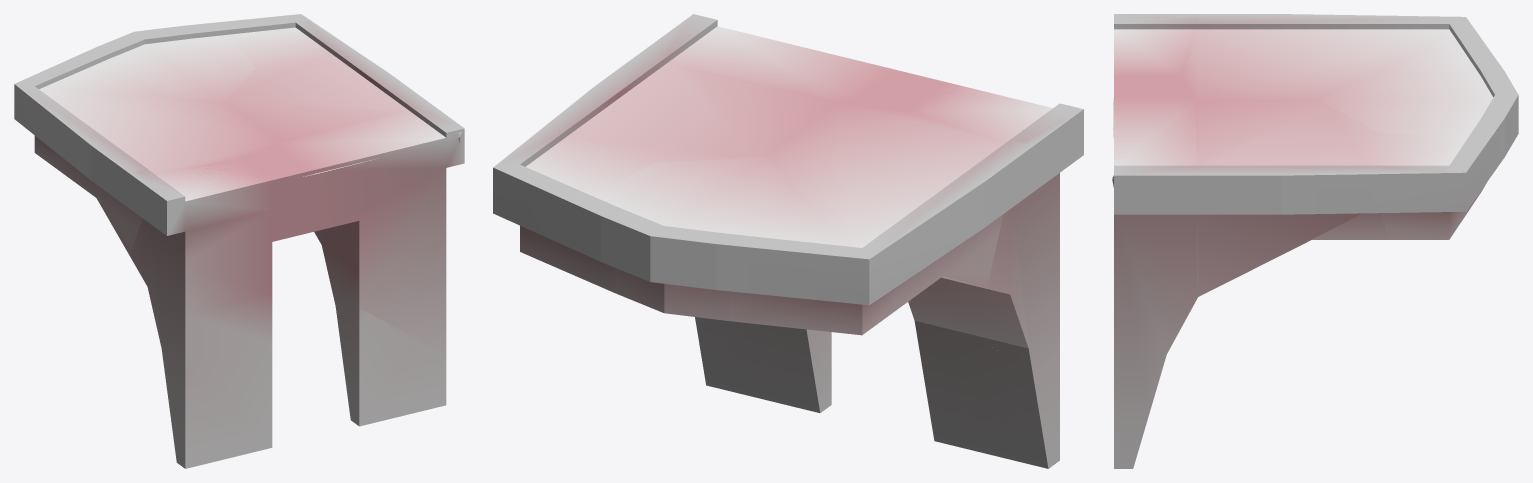
The model's file is BreakBlock.fbx.
3 views of the same model, side by side, from view 1: azimuth 30°, elevation 25°; view 2: azimuth 150°, elevation 25°; view 3: azimuth 270°, elevation 25° (orthographic). The views are drawn at different scales.
Visible parts, largest first — view 1: BreakBlockWhole, BreakBlockWhole_cell.001, BreakBlockWhole_cell.002, BreakBlockWhole_cell.007, BreakBlockWhole_cell.005, BreakBlockWhole_cell.006, BreakBlockWhole_cell.004, BreakBlockWhole_cell, BreakBlockWhole_cell.003; view 2: BreakBlockWhole, BreakBlockWhole_cell.002, BreakBlockWhole_cell.007, BreakBlockWhole_cell.005, BreakBlockWhole_cell.008, BreakBlockWhole_cell.006, BreakBlockWhole_cell.001, BreakBlockWhole_cell, BreakBlockWhole_cell.004; view 3: BreakBlockWhole_cell.007, BreakBlockWhole, BreakBlockWhole_cell.001, BreakBlockWhole_cell.002, BreakBlockWhole_cell.006, BreakBlockWhole_cell.004.
Part boxes in pixels (x1,y1,x2,y2): BreakBlockWhole: (14, 22, 446, 468); BreakBlockWhole_cell.001: (280, 101, 464, 355); BreakBlockWhole_cell.002: (15, 83, 280, 173); BreakBlockWhole_cell.007: (225, 45, 426, 244); BreakBlockWhole_cell.005: (130, 218, 185, 385); BreakBlockWhole_cell.006: (219, 14, 347, 67); BreakBlockWhole_cell.004: (131, 158, 269, 201); BreakBlockWhole_cell: (331, 288, 359, 425); BreakBlockWhole_cell.003: (37, 30, 225, 88); BreakBlockWhole: (548, 20, 1083, 468); BreakBlockWhole_cell.002: (765, 98, 1032, 335); BreakBlockWhole_cell.007: (547, 50, 836, 163); BreakBlockWhole_cell.005: (910, 173, 1059, 371); BreakBlockWhole_cell.008: (908, 301, 1048, 468); BreakBlockWhole_cell.006: (493, 124, 653, 278); BreakBlockWhole_cell.001: (644, 14, 894, 103); BreakBlockWhole_cell: (697, 319, 831, 412); BreakBlockWhole_cell.004: (909, 83, 1083, 143); BreakBlockWhole_cell.007: (1198, 101, 1388, 296); BreakBlockWhole: (1114, 14, 1518, 468); BreakBlockWhole_cell.001: (1114, 97, 1197, 414); BreakBlockWhole_cell.002: (1181, 14, 1466, 100); BreakBlockWhole_cell.006: (1368, 132, 1492, 239); BreakBlockWhole_cell.004: (1114, 14, 1198, 75).
Size of the model in its own units: 228 by 199 by 242.
